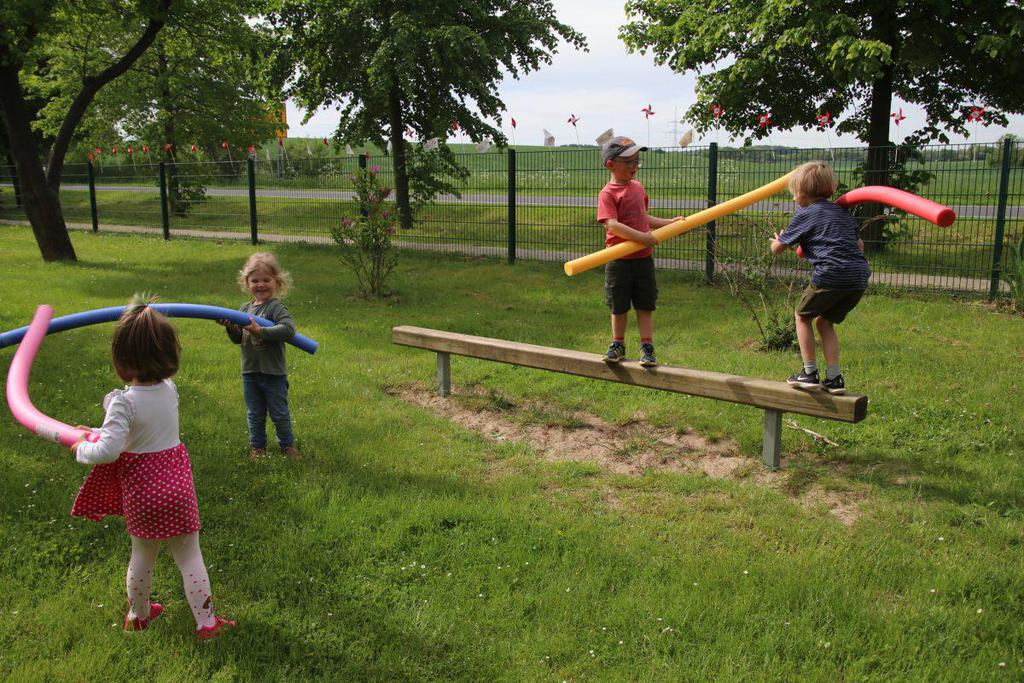child: (66, 307, 249, 646), (772, 164, 871, 401), (218, 249, 324, 453), (588, 132, 672, 371)
